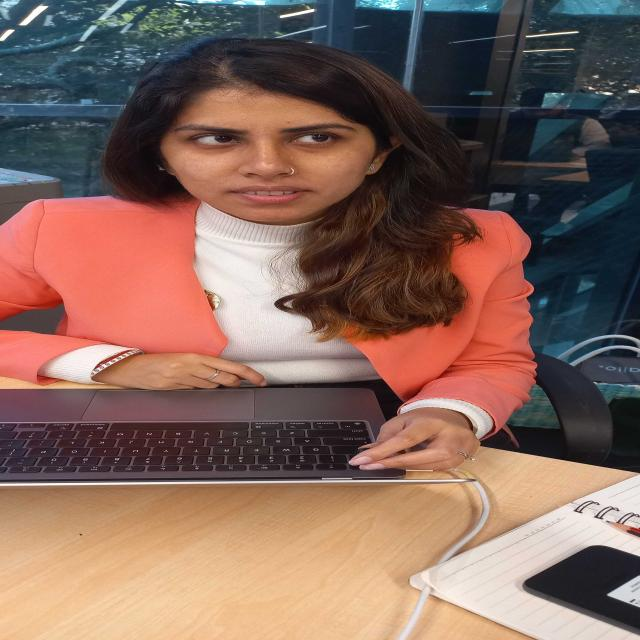Spots: (255, 160, 280, 169), (277, 120, 299, 129)
